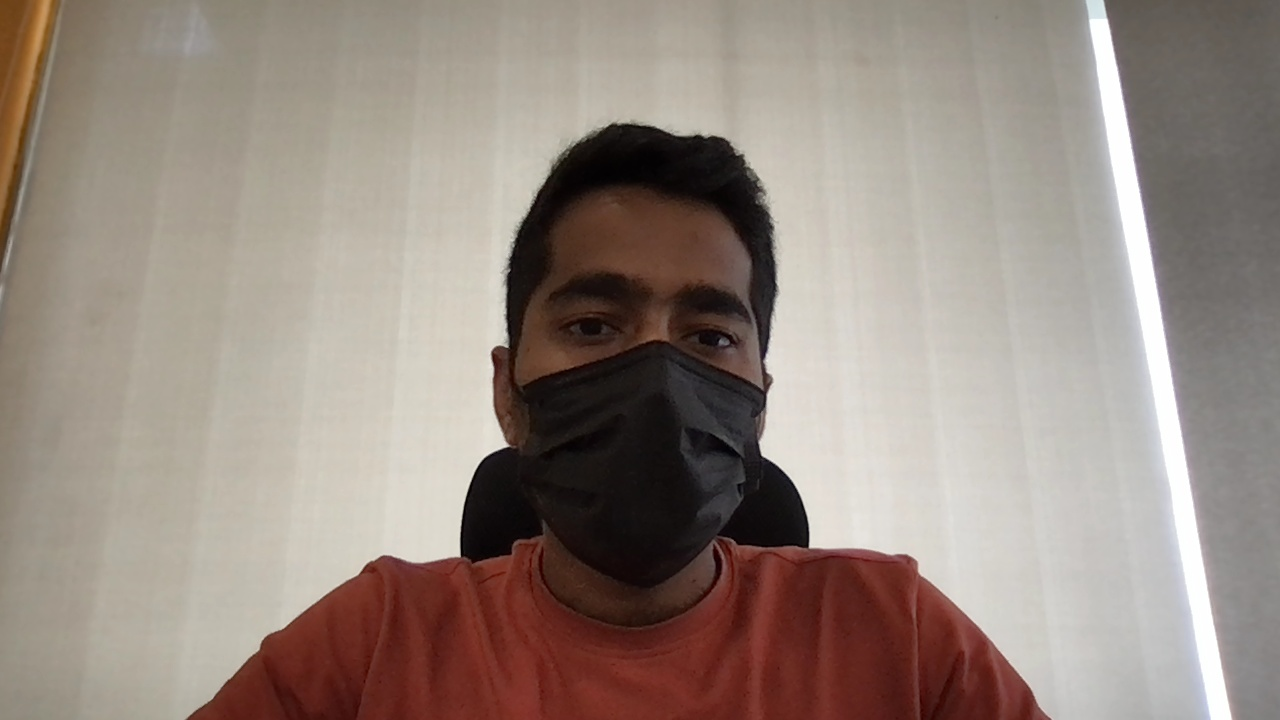mask: (524, 341, 767, 587)
